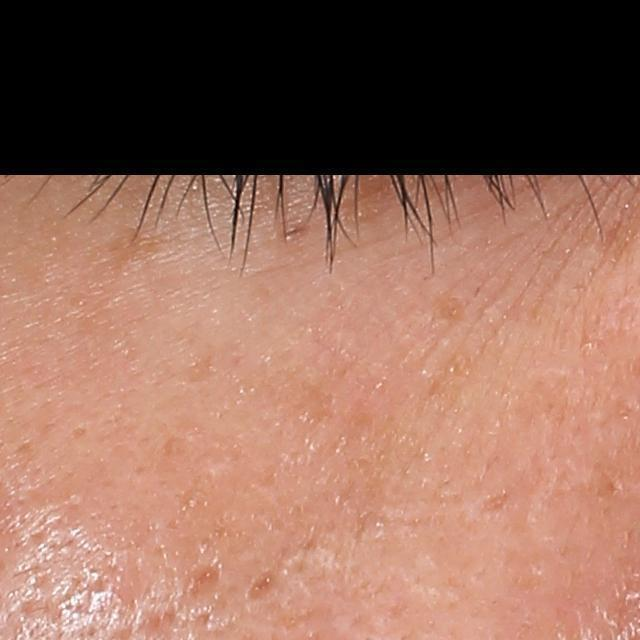atrophic_scar: (183, 561, 227, 604), (237, 567, 284, 605), (135, 610, 178, 638)
melasma: (87, 224, 169, 278), (338, 156, 393, 222), (428, 289, 468, 323)
